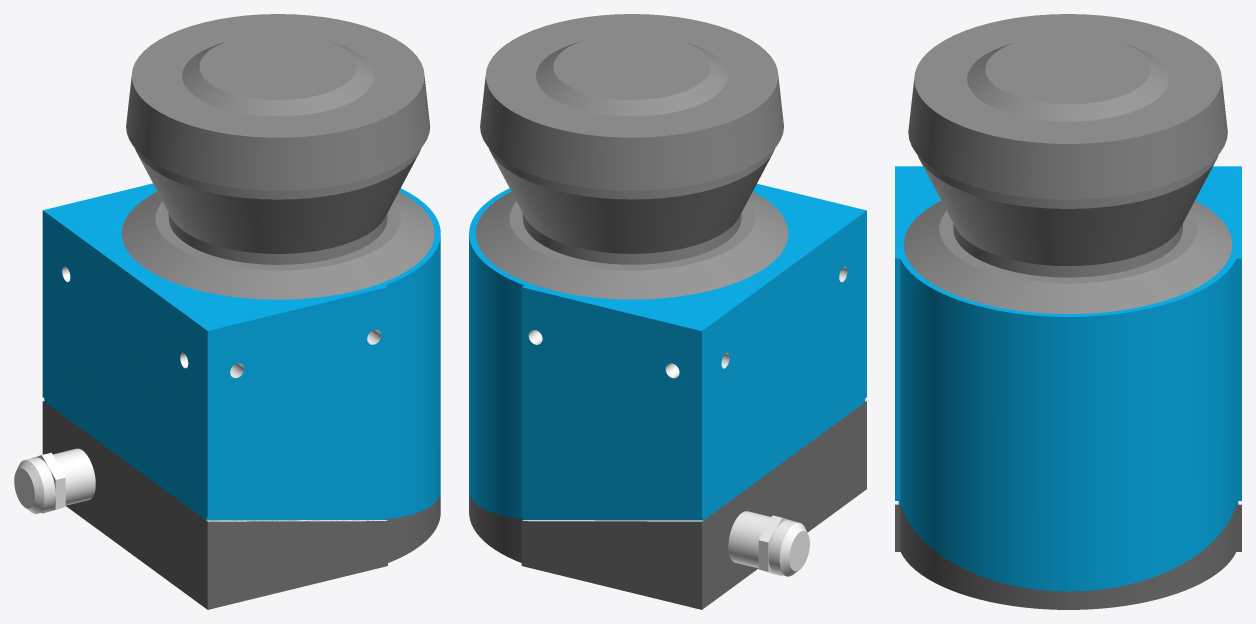
The model's file is Sick-LMS100.dae.
The picture shows the model from 3 angles, left to right: view 1: azimuth 30°, elevation 25°; view 2: azimuth 150°, elevation 25°; view 3: azimuth 270°, elevation 25°; orthographic projection. The views are drawn at different scales.
Parts seen in each view (by area): view 1: SketchUp_021, SketchUp_034, SketchUp_026, SketchUp_022, SketchUp_036, SketchUp_037, SketchUp_035, SketchUp_040, SketchUp_038, SketchUp_041; view 2: SketchUp_021, SketchUp_034, SketchUp_026, SketchUp_022, SketchUp_036, SketchUp_037, SketchUp_035, SketchUp_038, SketchUp_040, SketchUp_041; view 3: SketchUp_021, SketchUp_034, SketchUp_036, SketchUp_022, SketchUp_037, SketchUp_035, SketchUp_038.
Part boxes in pixels (left/top/right/bottom): SketchUp_021: left=43, top=183, right=440, bottom=520; SketchUp_034: left=126, top=14, right=430, bottom=253; SketchUp_026: left=42, top=210, right=207, bottom=519; SketchUp_022: left=42, top=401, right=440, bottom=609; SketchUp_036: left=121, top=191, right=434, bottom=299; SketchUp_037: left=199, top=33, right=356, bottom=99; SketchUp_035: left=182, top=42, right=373, bottom=116; SketchUp_040: left=14, top=452, right=65, bottom=513; SketchUp_038: left=168, top=213, right=387, bottom=264; SketchUp_041: left=52, top=448, right=95, bottom=505; SketchUp_021: left=469, top=183, right=866, bottom=520; SketchUp_034: left=480, top=14, right=783, bottom=253; SketchUp_026: left=702, top=210, right=866, bottom=519; SketchUp_022: left=469, top=401, right=866, bottom=609; SketchUp_036: left=475, top=191, right=788, bottom=299; SketchUp_037: left=553, top=33, right=710, bottom=99; SketchUp_035: left=536, top=42, right=727, bottom=116; SketchUp_038: left=522, top=213, right=741, bottom=264; SketchUp_040: left=758, top=515, right=809, bottom=576; SketchUp_041: left=728, top=511, right=771, bottom=568; SketchUp_021: left=895, top=166, right=1241, bottom=591; SketchUp_034: left=908, top=14, right=1227, bottom=265; SketchUp_036: left=903, top=201, right=1232, bottom=313; SketchUp_022: left=895, top=501, right=1241, bottom=609; SketchUp_037: left=985, top=34, right=1150, bottom=104; SketchUp_035: left=967, top=43, right=1168, bottom=121; SketchUp_038: left=953, top=223, right=1182, bottom=277.
Bounding box in the file's own units: 0.1257 × 0.1022 × 0.1523.
